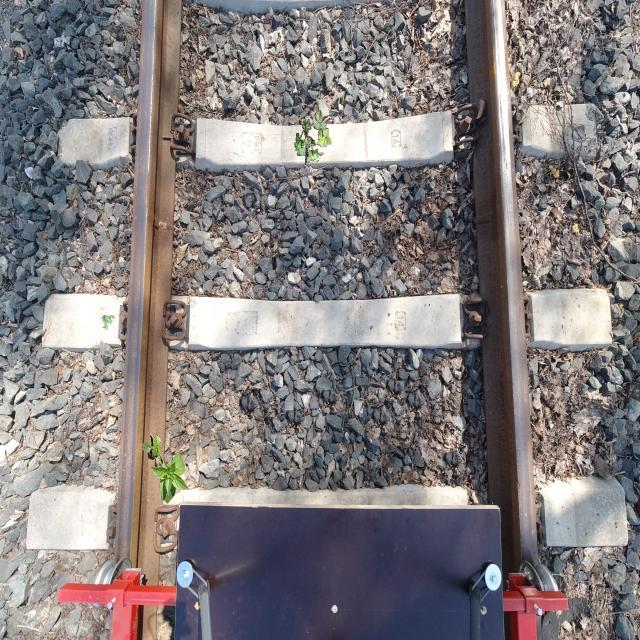Plant: (142, 433, 190, 504), (294, 110, 332, 165), (101, 315, 115, 330)
